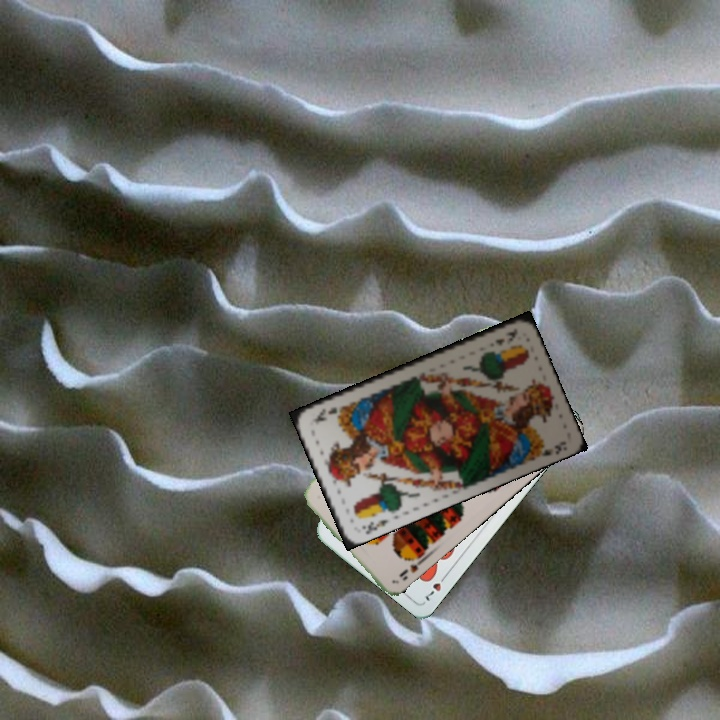EK: (491, 324, 520, 348), (358, 515, 391, 536)
H7: (421, 570, 450, 604)
S9: (395, 550, 428, 580)
